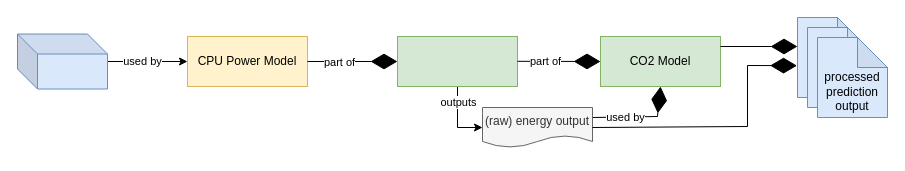
This 905x171 diagram has some shape labels left out. Here are the shapes that lost their labels. From the top down, the box of each, then its label:
(16, 33, 108, 89): Input
(396, 36, 518, 86): Energy Model
